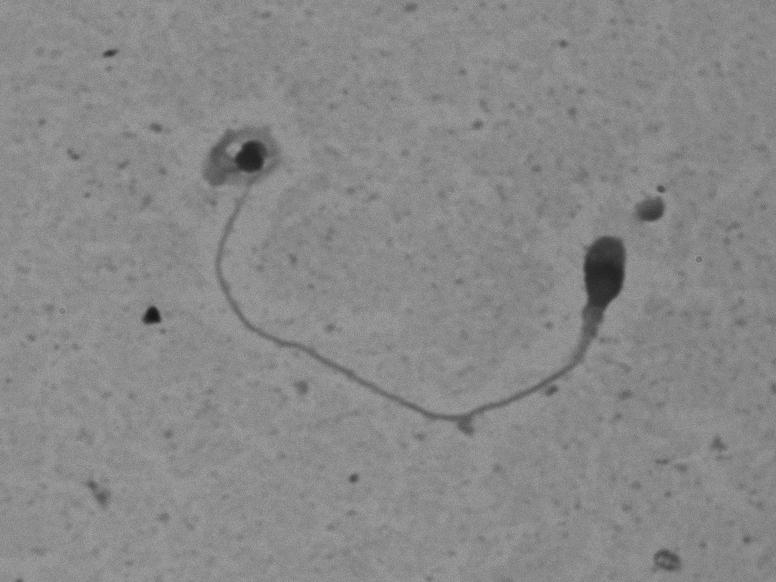Abnormal: (184, 123, 652, 450)
